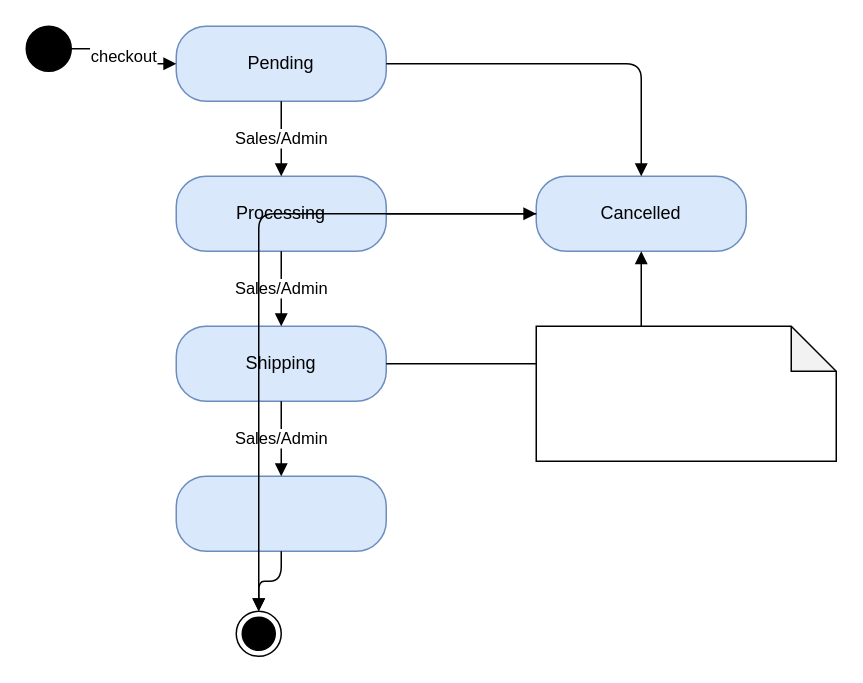
Some shapes in this 863 by 683 pixel diagram are drawn without their labels. Here are the shapes that lost their labels. From the top down, the centre of each, then its label:
At [685,393]: "Forward-only happy path. Illegal jump rejected (orderStatus.js + OrderService)".
At [280,513]: "Completed".
